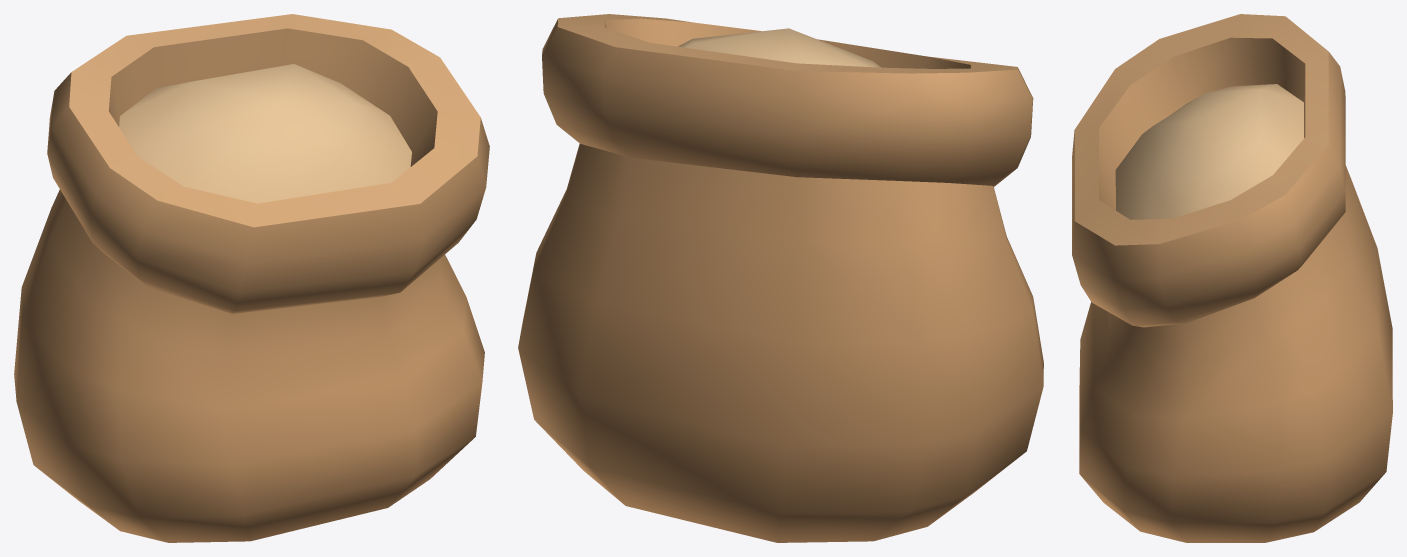
File: sac_farine.glb
3 views of the same model, side by side, from view 1: azimuth 30°, elevation 25°; view 2: azimuth 150°, elevation 25°; view 3: azimuth 270°, elevation 25° (orthographic). The views are drawn at different scales.
Visible parts, largest first — view 1: Food_Flour; view 2: Food_Flour; view 3: Food_Flour.
Boxes of the visible parts, box(x1,y1,x2,y2) form: Food_Flour: box(14, 14, 489, 542); Food_Flour: box(518, 14, 1043, 542); Food_Flour: box(1072, 14, 1392, 542).
Size of the model in its own units: 0.6019 by 0.6056 by 0.4318.
1 material, 1 textured.
